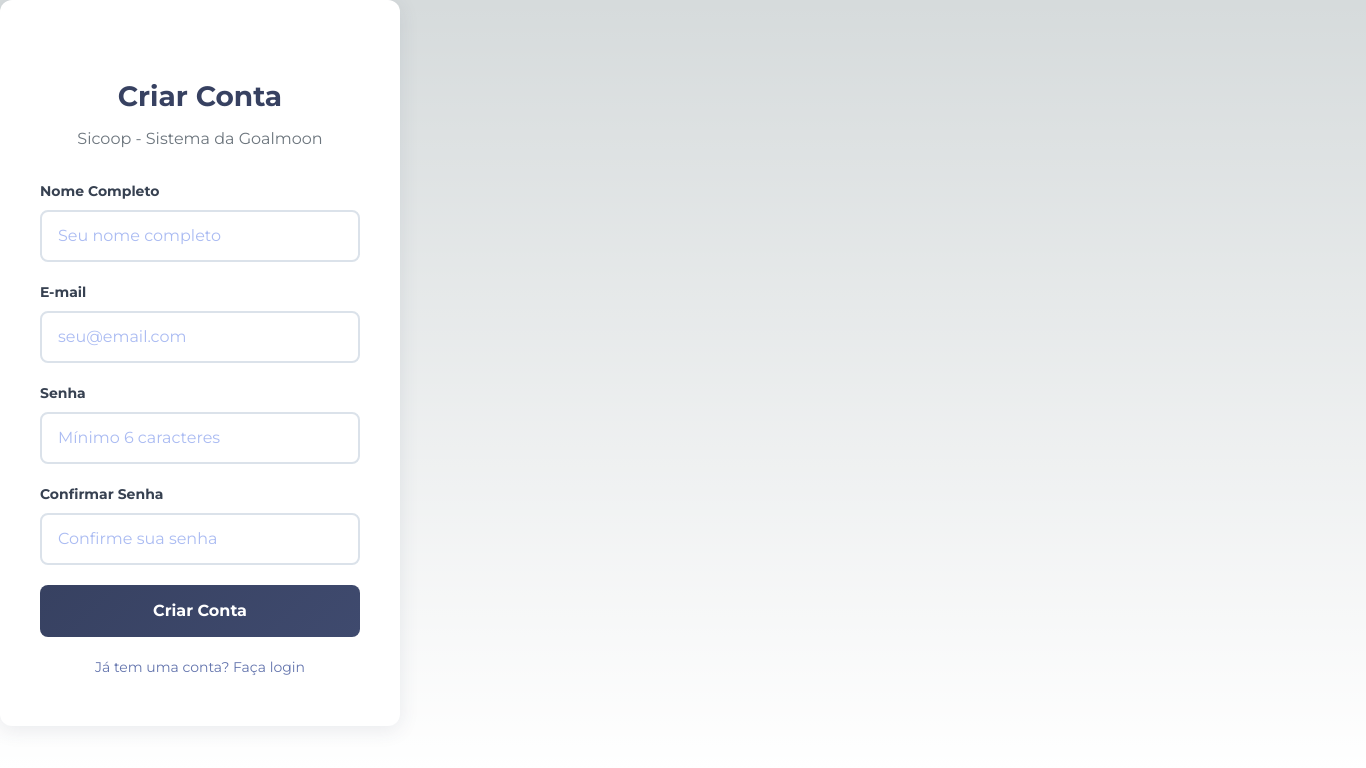
Test: RegisterPage › tratamento de erros e sucesso › deve exibir mensagem de sucesso após registro bem-sucedido
In the field labelled "Nome Completo": (200, 236) [40, 210, 360, 262], type "João Silva"
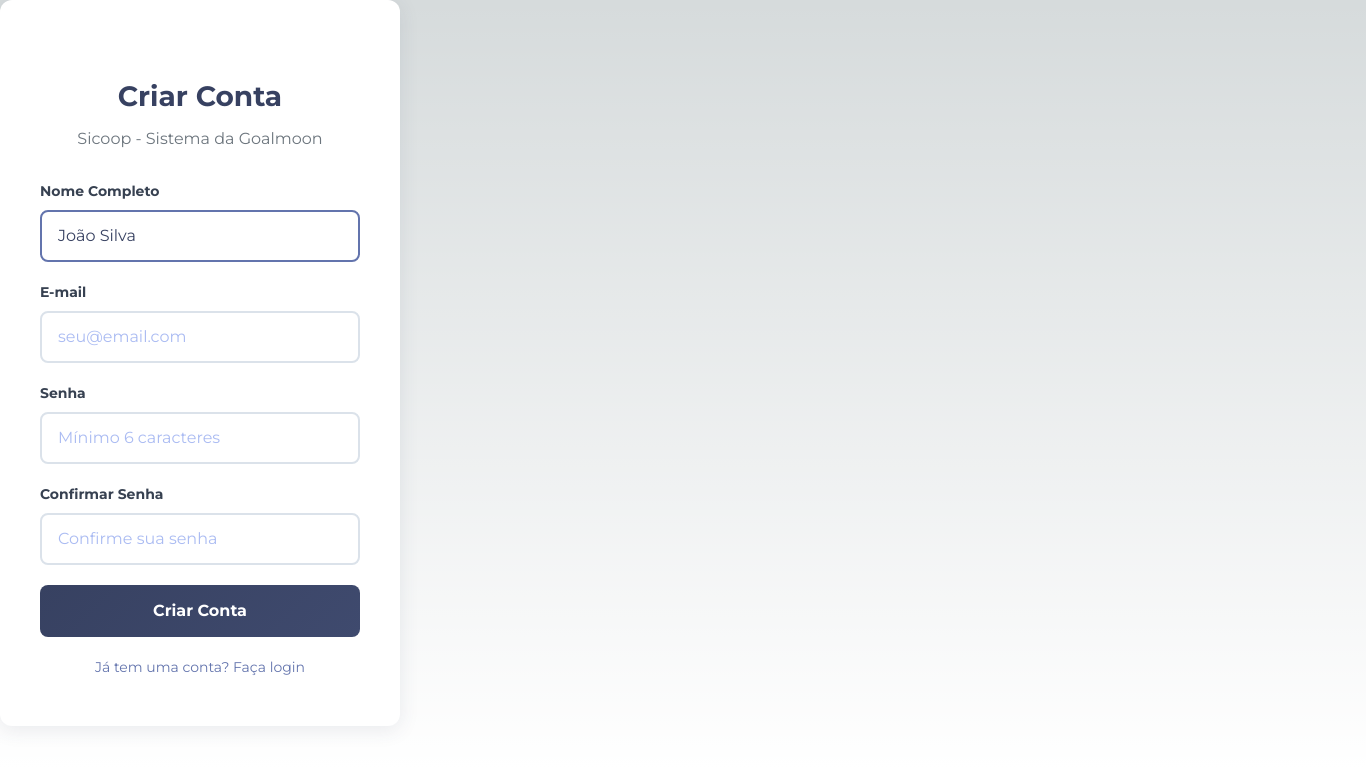
In the field labelled "E-mail": (200, 337) [40, 311, 360, 363], type "joao@example.com"
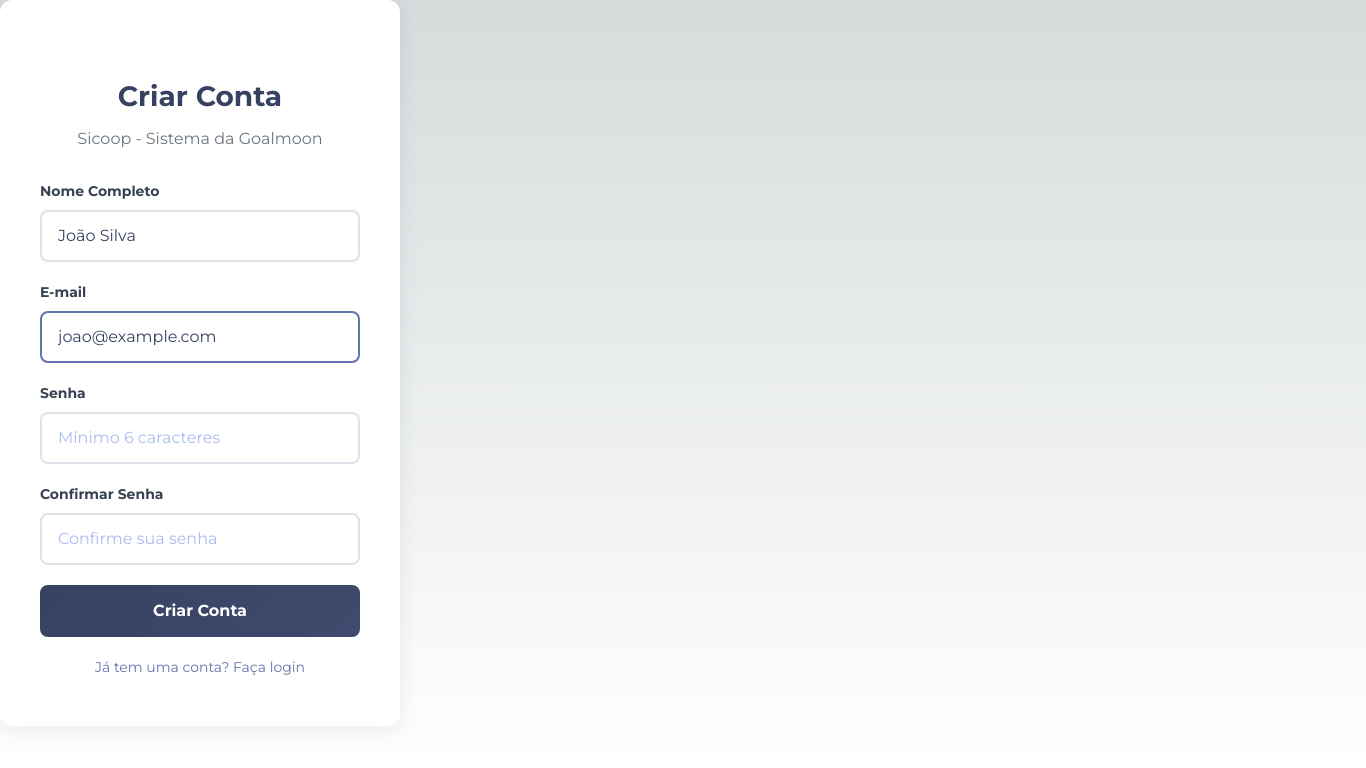
In the password field labelled "Senha": (200, 438) [40, 412, 360, 464], type "password123"
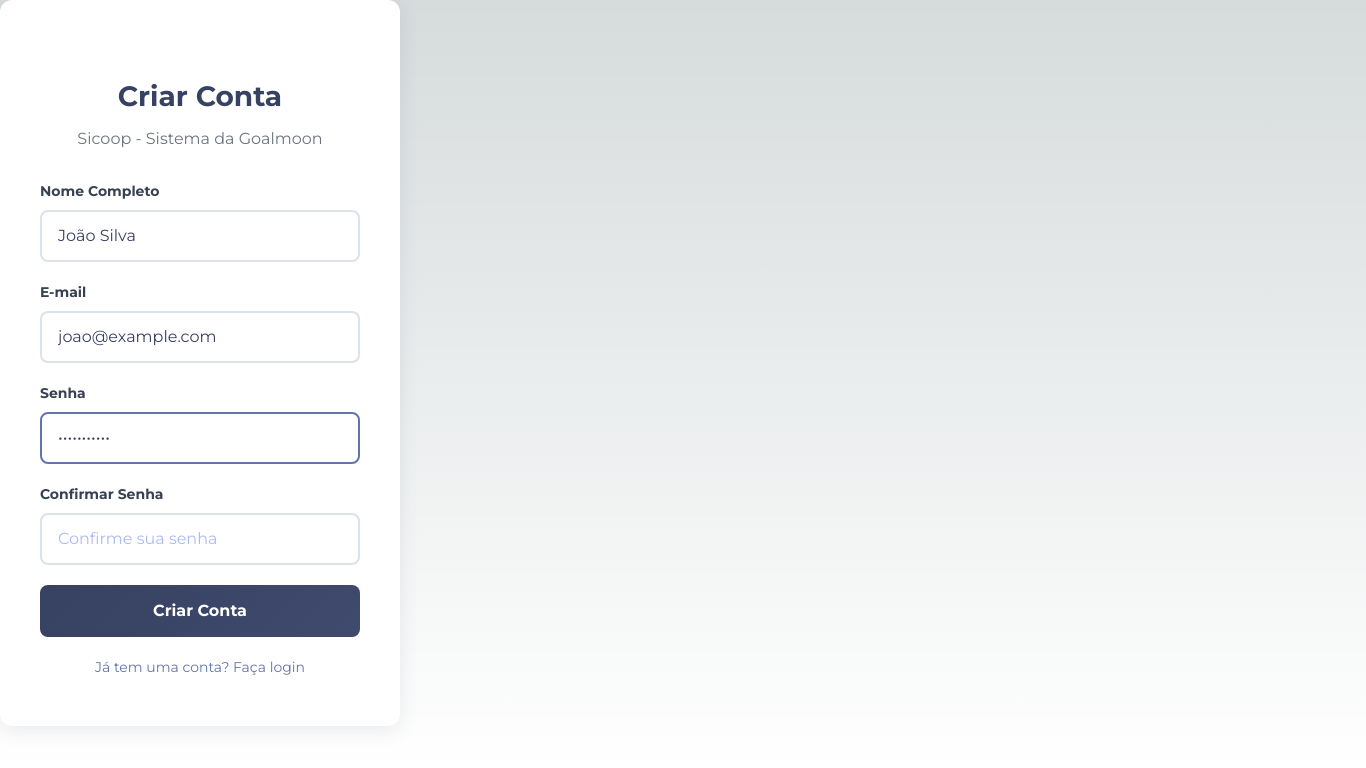
In the password field labelled "Confirmar Senha": (200, 539) [40, 513, 360, 565], type "password123"
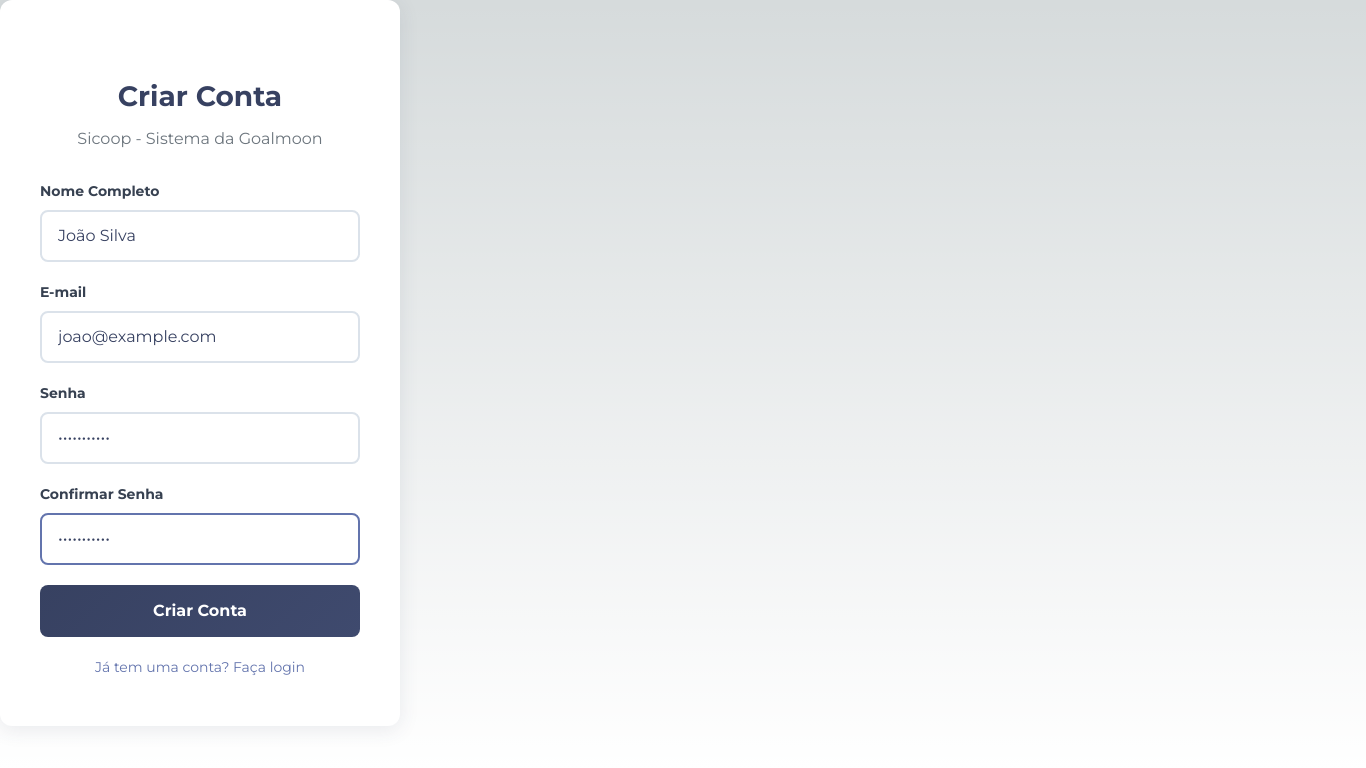
Click the button "Criar Conta": (200, 611) [40, 585, 360, 637]
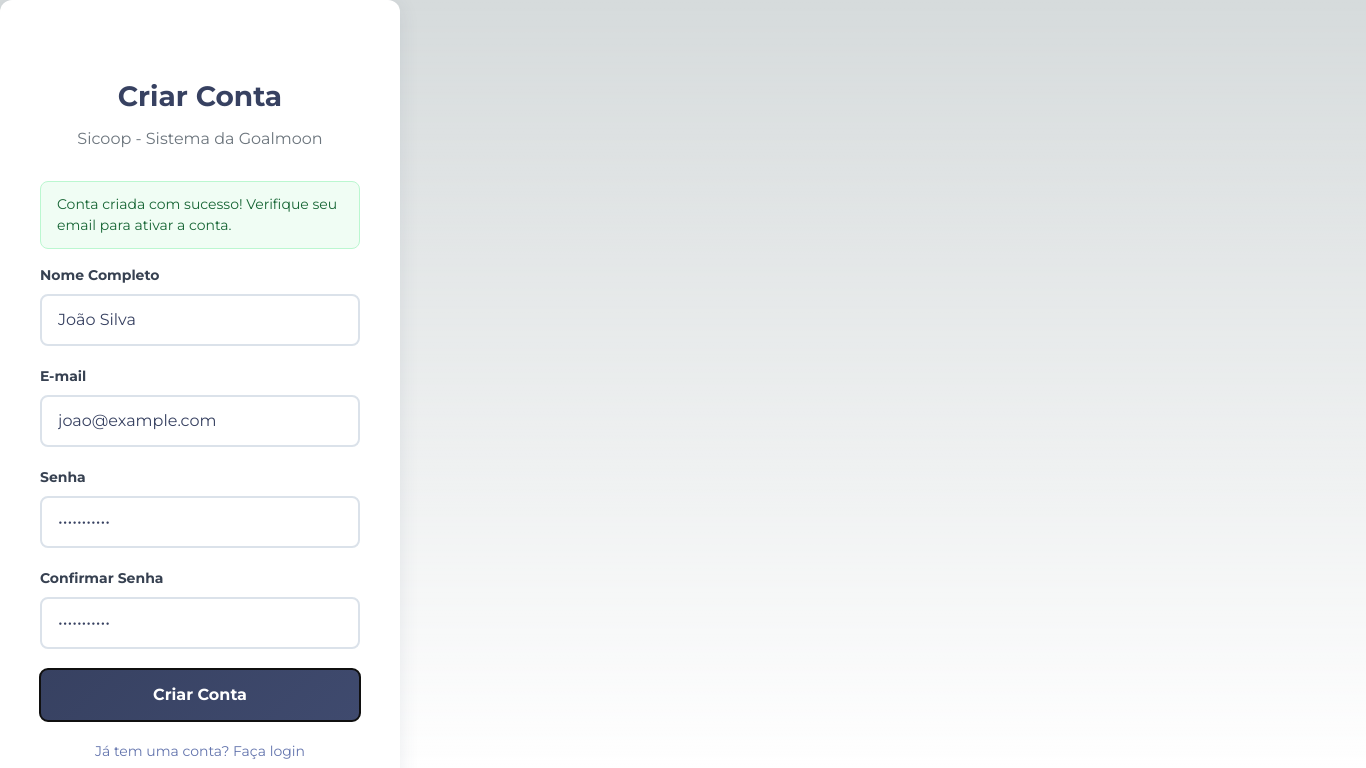
Expected: the text "Conta criada com sucesso! Verifique seu email para ativar a conta." is shown, [40, 181, 360, 249]
